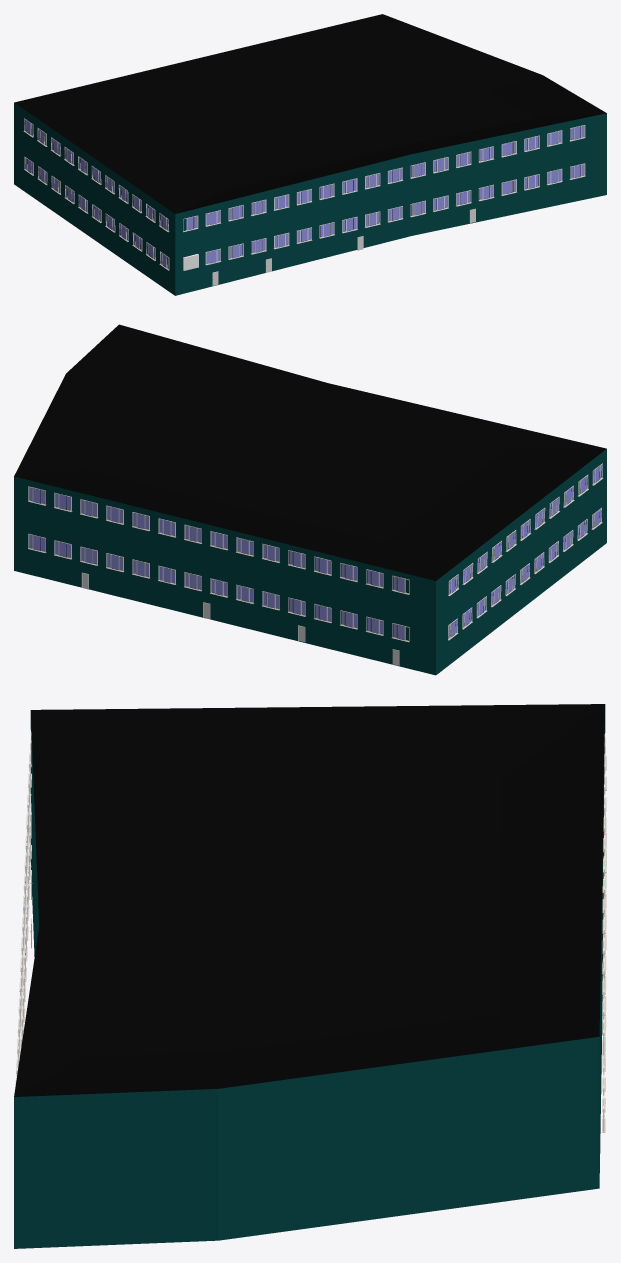
Rendered from EmpireRoadShops1.fbx.
The picture shows the model from 3 angles, top to bottom: view 1: azimuth 30°, elevation 25°; view 2: azimuth 150°, elevation 25°; view 3: azimuth 270°, elevation 25°; orthographic projection. The views are drawn at different scales.
Visible parts, largest first — view 1: EmpireRoadShops1, Window, Window.004; view 2: EmpireRoadShops1, Window.003, Window.004; view 3: EmpireRoadShops1, Window, Window.003.
Part boxes in pixels (x1,y1,x2,y2): EmpireRoadShops1: (14,14,606,295); Window: (183,125,585,265); Window.004: (23,118,169,270); EmpireRoadShops1: (14,324,606,675); Window.003: (28,486,409,642); Window.004: (448,463,603,640); EmpireRoadShops1: (14,704,605,1248); Window: (15,730,31,1084); Window.003: (602,733,606,1132).
Bounding box in the file's own units: 72.38 × 13 × 46.01.
